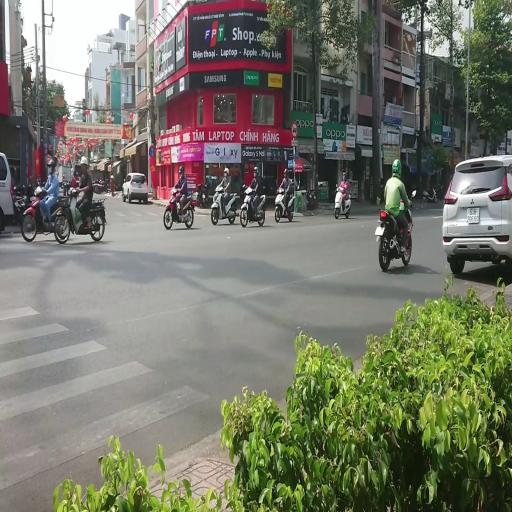bikes: (375, 189, 416, 271), (55, 182, 106, 242), (21, 182, 70, 242), (164, 187, 194, 229), (240, 185, 266, 226), (211, 186, 237, 225), (11, 182, 34, 224), (274, 181, 295, 222), (334, 182, 351, 218), (195, 183, 208, 207), (92, 178, 109, 194), (422, 187, 437, 203), (306, 188, 316, 209)
helmet: (392, 159, 402, 177), (34, 186, 43, 196), (80, 156, 88, 166), (47, 159, 54, 166), (223, 168, 229, 176), (178, 166, 184, 174), (411, 189, 416, 198), (170, 188, 176, 195), (342, 172, 347, 180), (254, 167, 258, 175), (284, 168, 288, 174), (74, 170, 78, 176), (110, 174, 114, 179)
